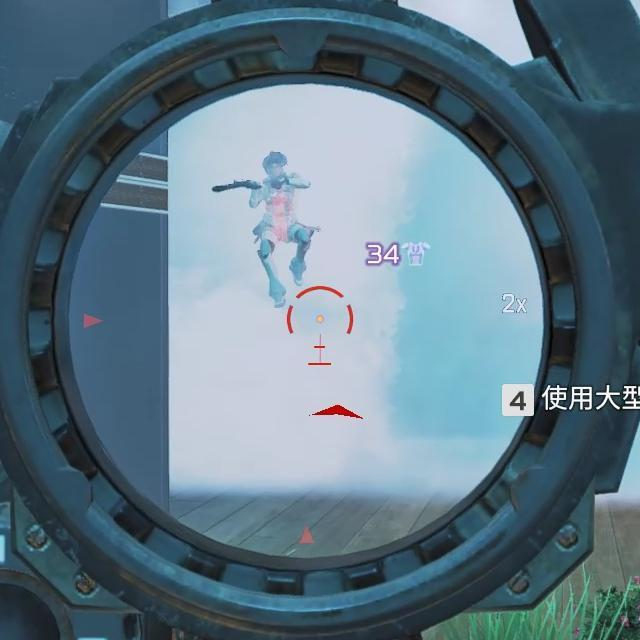avatar: (249, 147, 315, 312)
